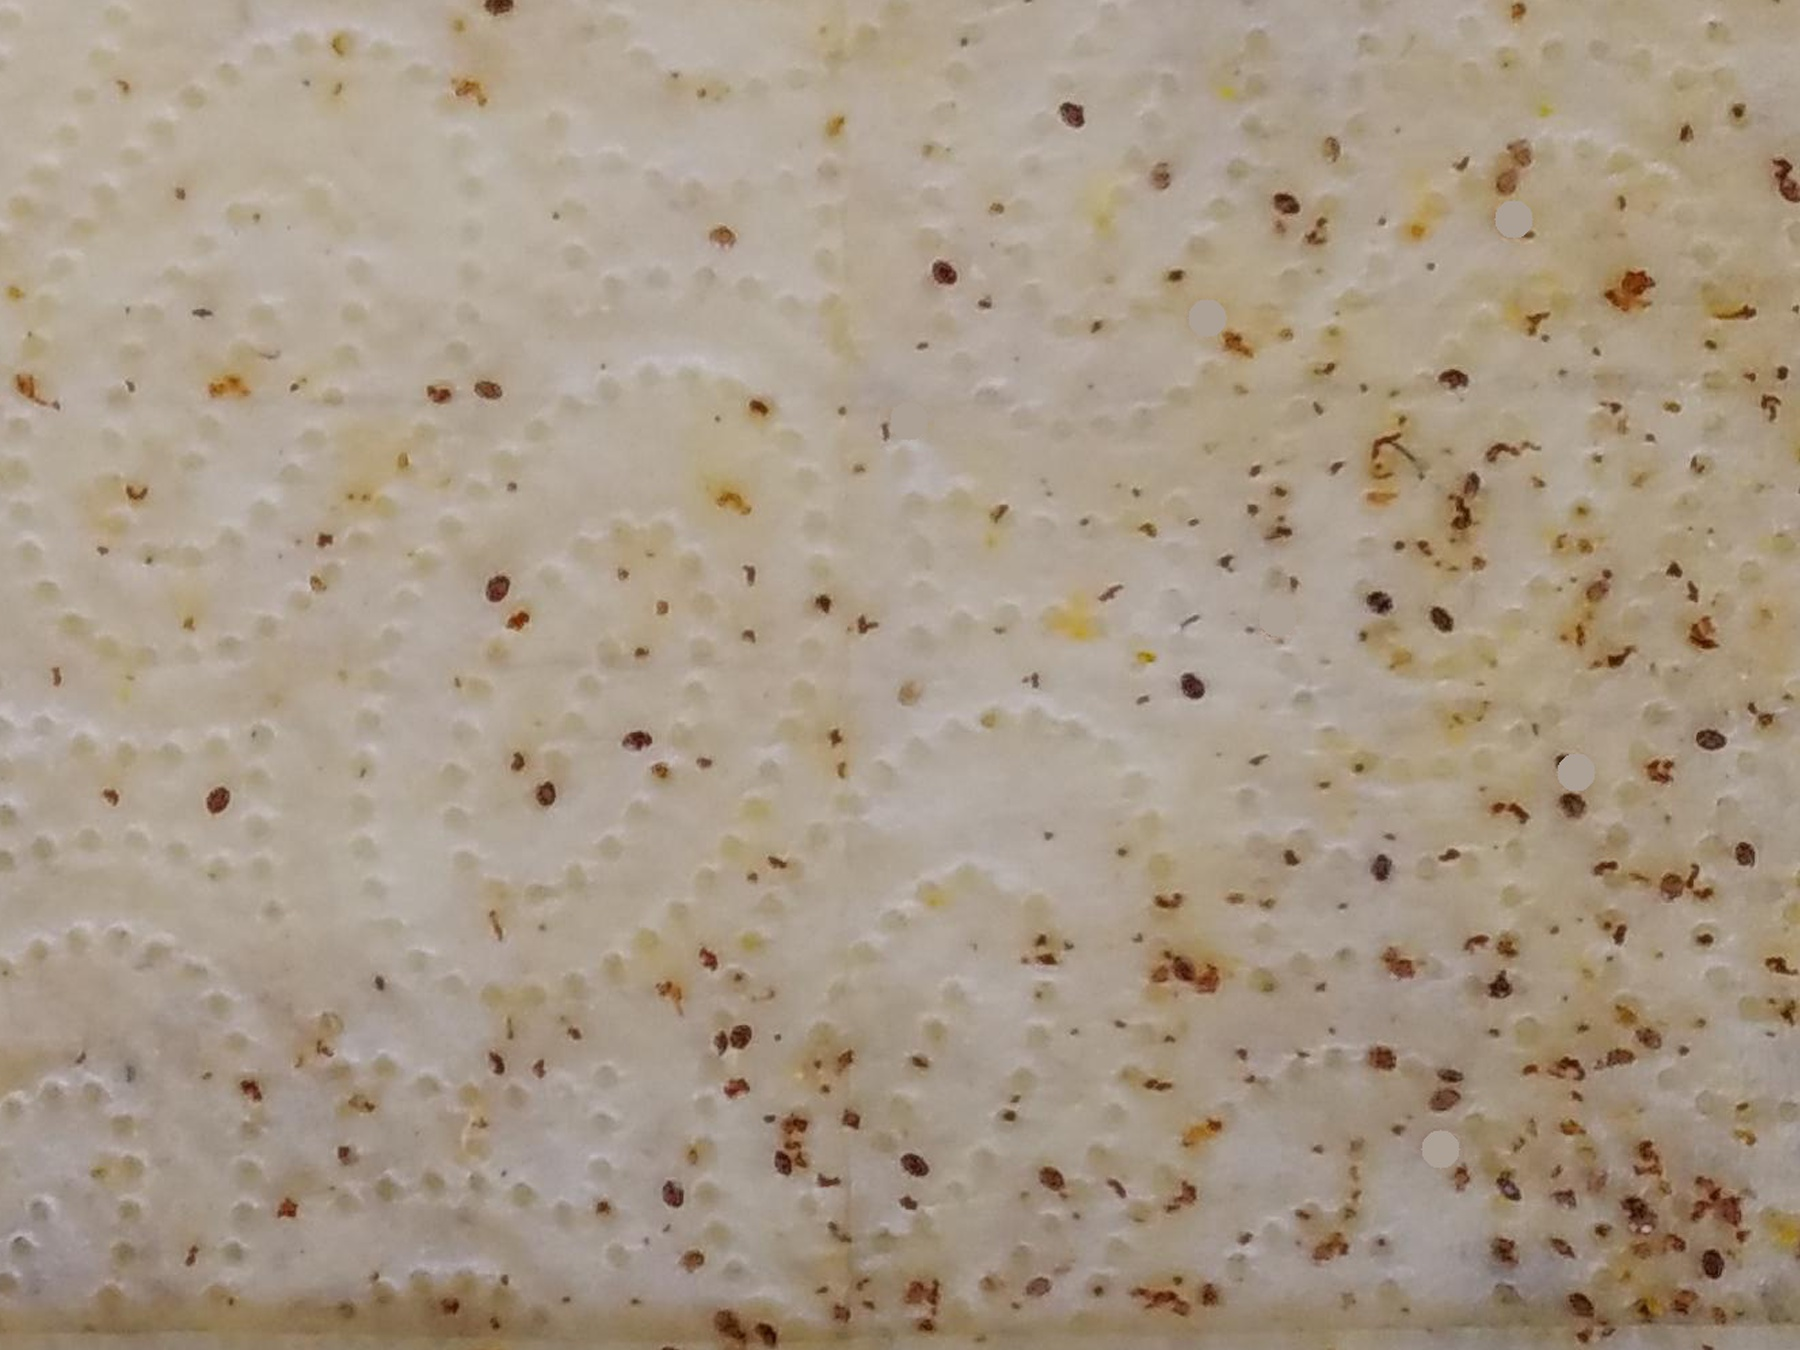Varroa: (1254, 617, 1298, 661), (1358, 583, 1402, 625), (482, 573, 516, 608), (655, 1178, 689, 1214), (726, 1022, 758, 1059), (198, 779, 231, 813), (1694, 1244, 1726, 1278), (1174, 669, 1208, 702), (1267, 191, 1300, 225), (1439, 364, 1471, 398), (928, 257, 960, 289), (906, 1150, 937, 1183), (1697, 727, 1728, 760), (624, 727, 655, 760), (1037, 1164, 1069, 1195), (1366, 852, 1397, 883), (1056, 99, 1086, 130), (1429, 607, 1458, 638), (770, 1146, 799, 1177), (479, 379, 506, 407)
